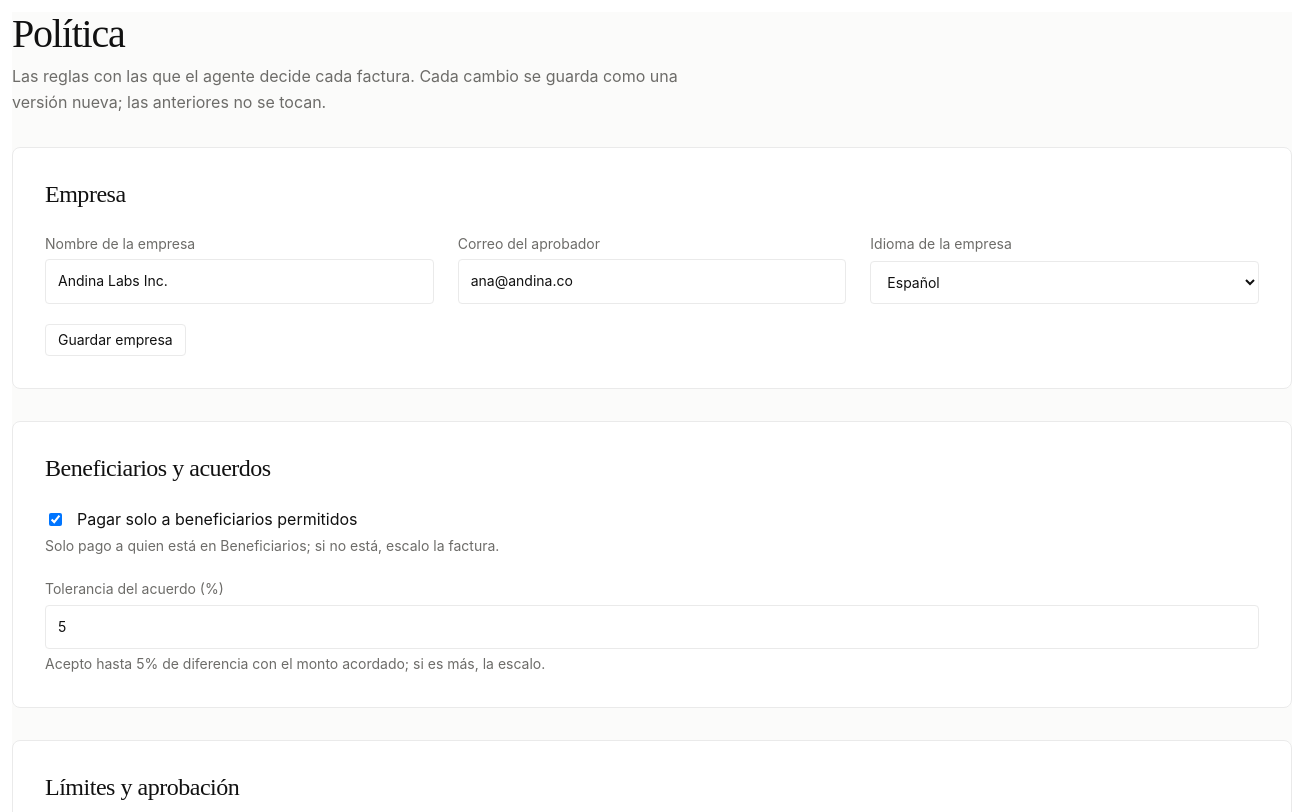
Test case: a normal company saves name, approver email and language; a 400 shows its text (AC-32, R-34)
The image size is (1292, 812).
Replace the text in the field labelled "Correo del aprobador" with "x" at (652, 282), box 458,259 -> 846,304
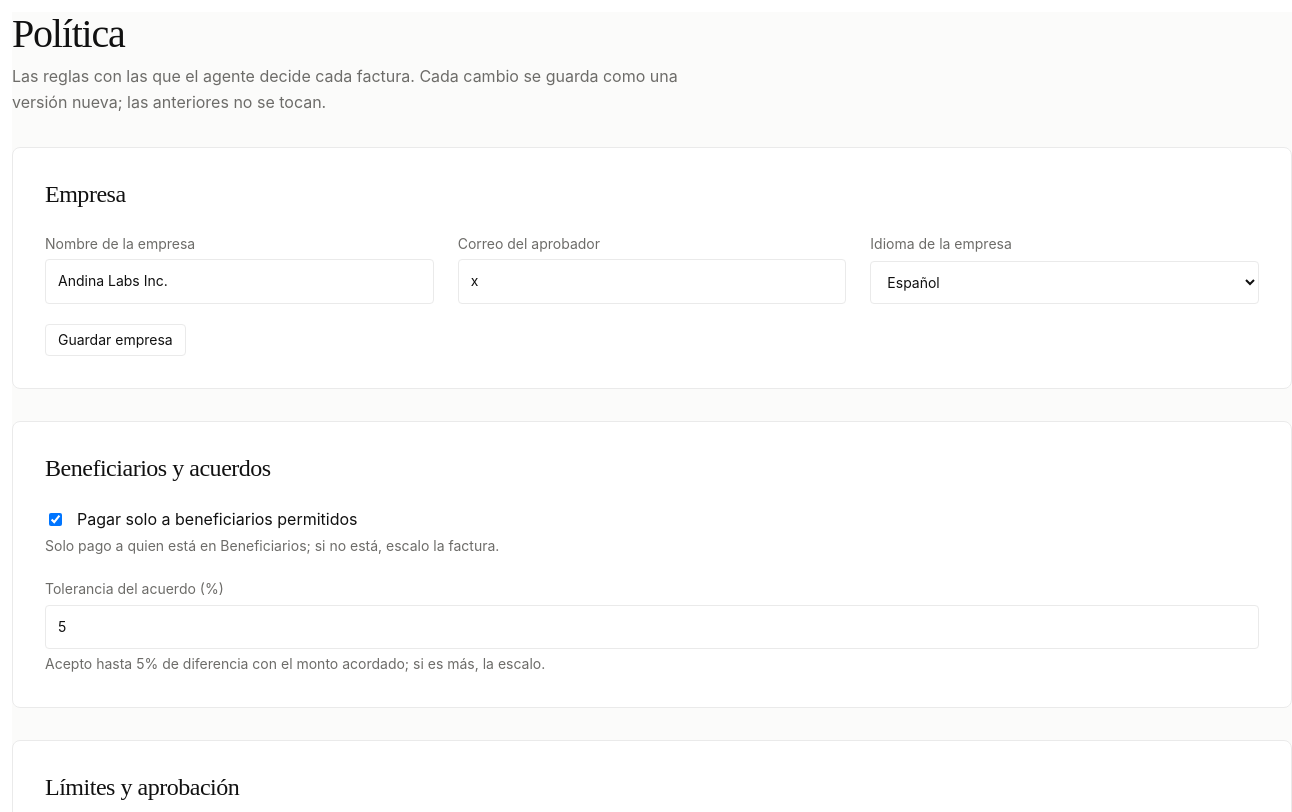
Click the button "Guardar empresa".
click(115, 340)  # box 45,324 -> 186,356
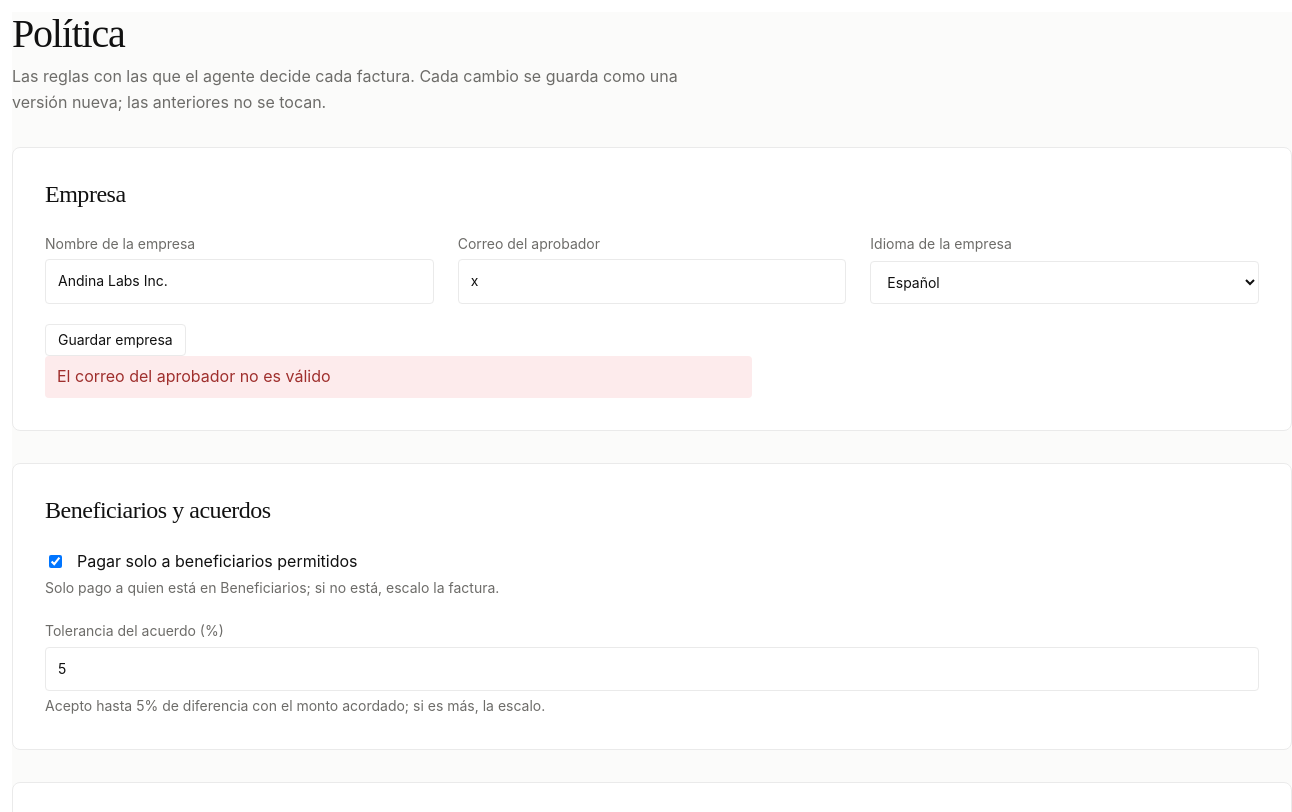
Check: the text "El correo del aprobador no es válido" is shown, box 45,356 -> 752,398
Replace the text in the field labelled "Correo del aprobador" with "pagos@andina.co" at (652, 282), box 458,259 -> 846,304
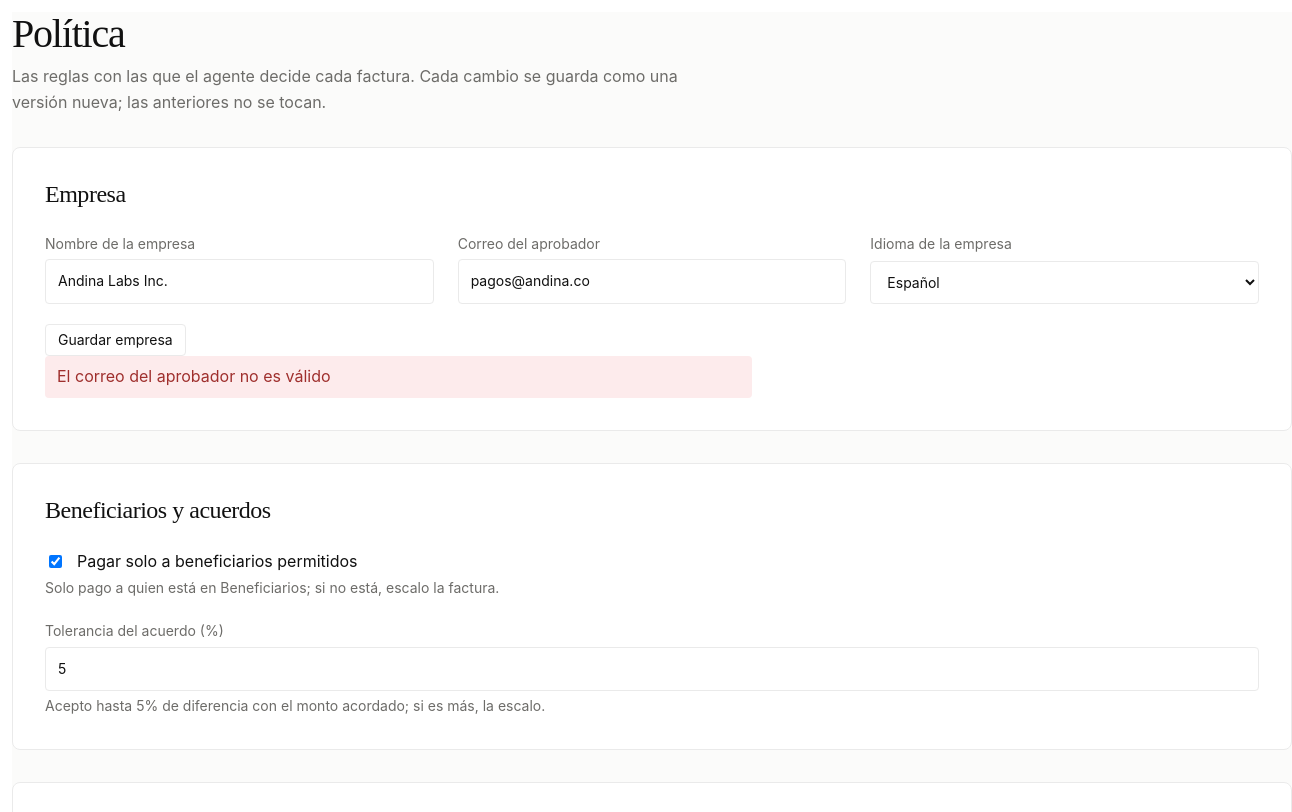
Select "English" in the dropdown labelled "Idioma de la empresa" at (1065, 282), box 870,261 -> 1259,304
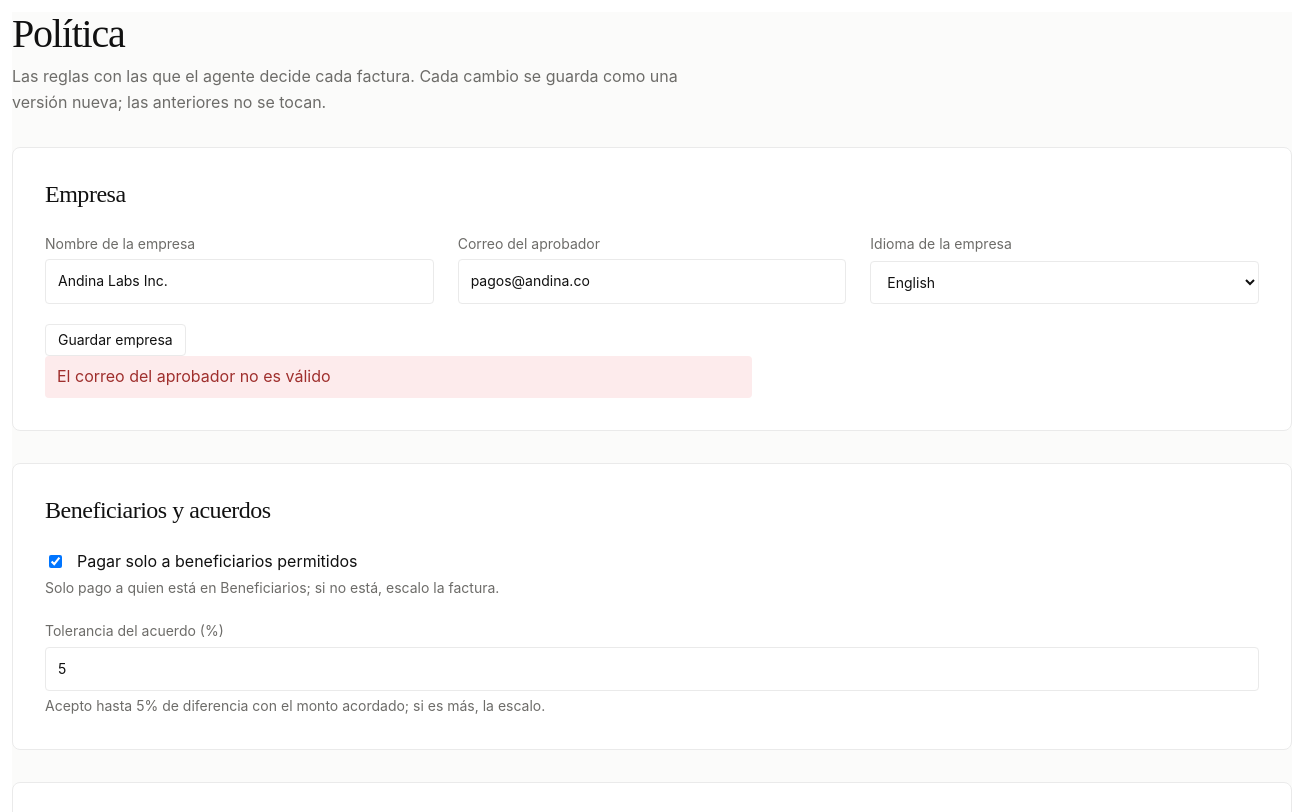
Click the button "Guardar empresa".
click(115, 340)  # box 45,324 -> 186,356
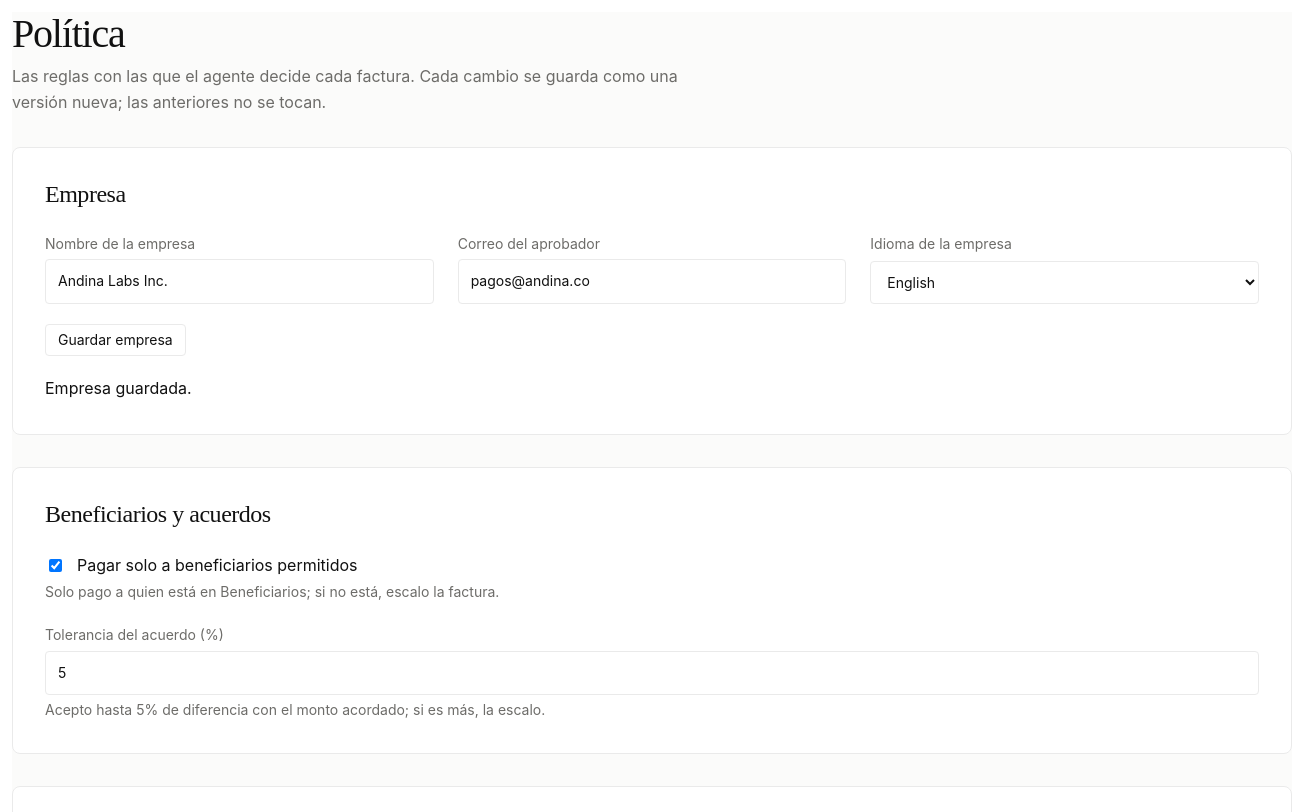
Check: the text "Empresa guardada." is shown, box 45,376 -> 192,402
